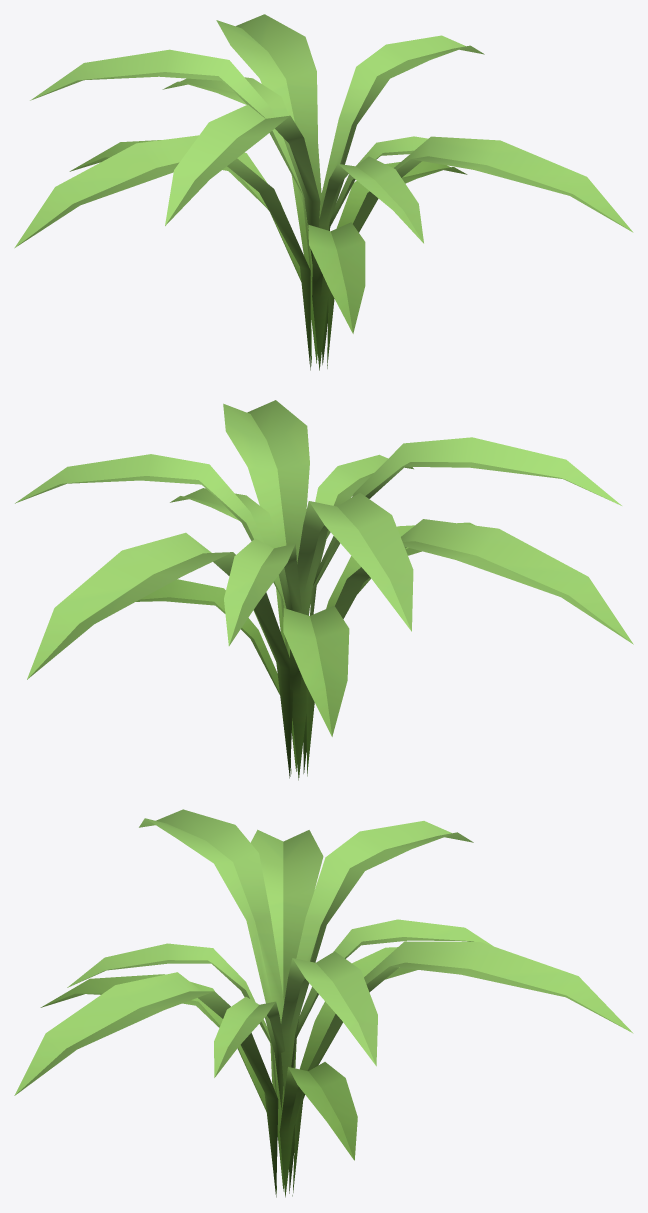
Rendered from pack03_foliage2_04.fbx.
3 renders of one model, top to bottom at view 1: azimuth 30°, elevation 25°; view 2: azimuth 150°, elevation 25°; view 3: azimuth 270°, elevation 25°, orthographic. The views are drawn at different scales.
Visible parts, largest first — view 1: Grass.007; view 2: Grass.007; view 3: Grass.007.
Boxes of the visible parts, bbox=[...] form: Grass.007: bbox=[14, 14, 633, 370]; Grass.007: bbox=[15, 400, 633, 780]; Grass.007: bbox=[14, 809, 633, 1197].
Size of the model in its own units: 132 by 72.18 by 133.
Materials: 1 (1 with a texture image).
